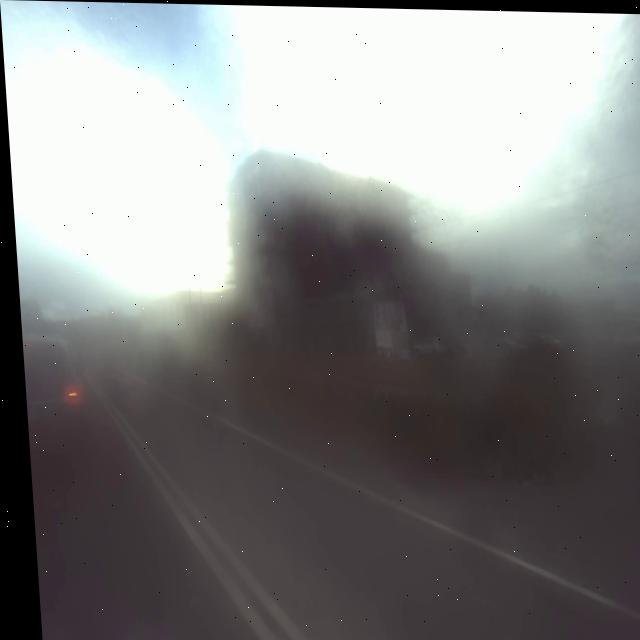car: (16, 314, 83, 484)
